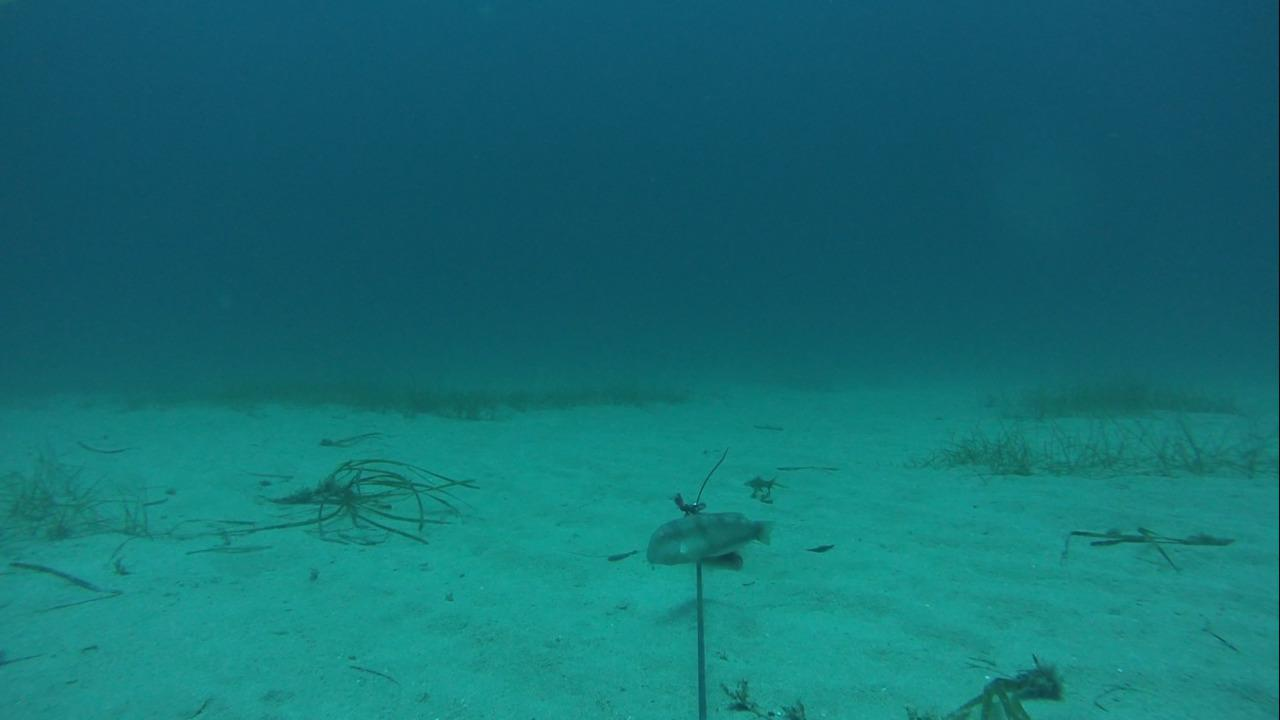raor: (641, 510, 773, 568)
